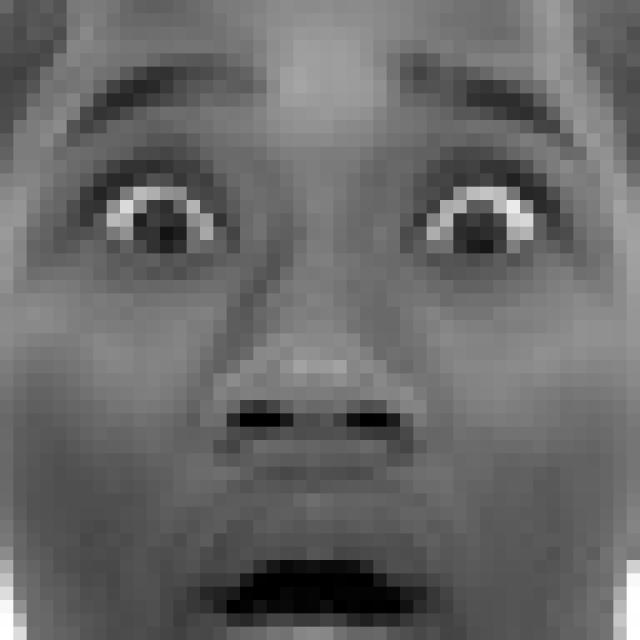surprise: (38, 42, 607, 640)
